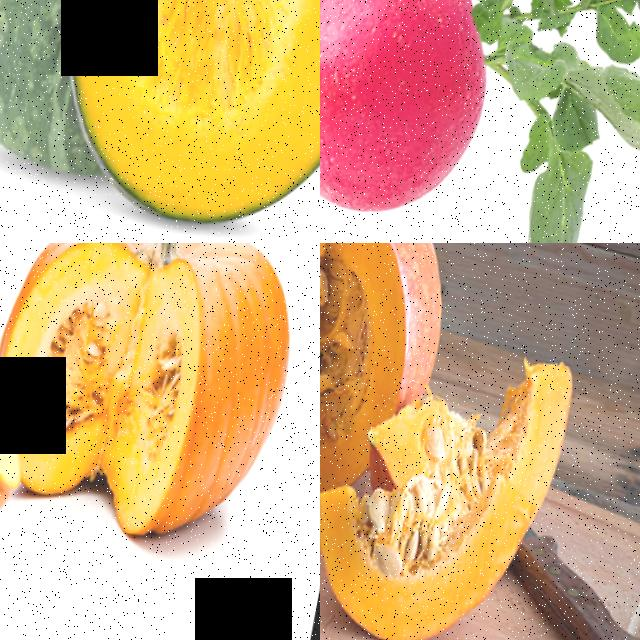pumpkin: (0, 243, 319, 579), (320, 306, 585, 640), (21, 0, 320, 243), (320, 243, 436, 517)
spinach: (320, 0, 548, 243)
